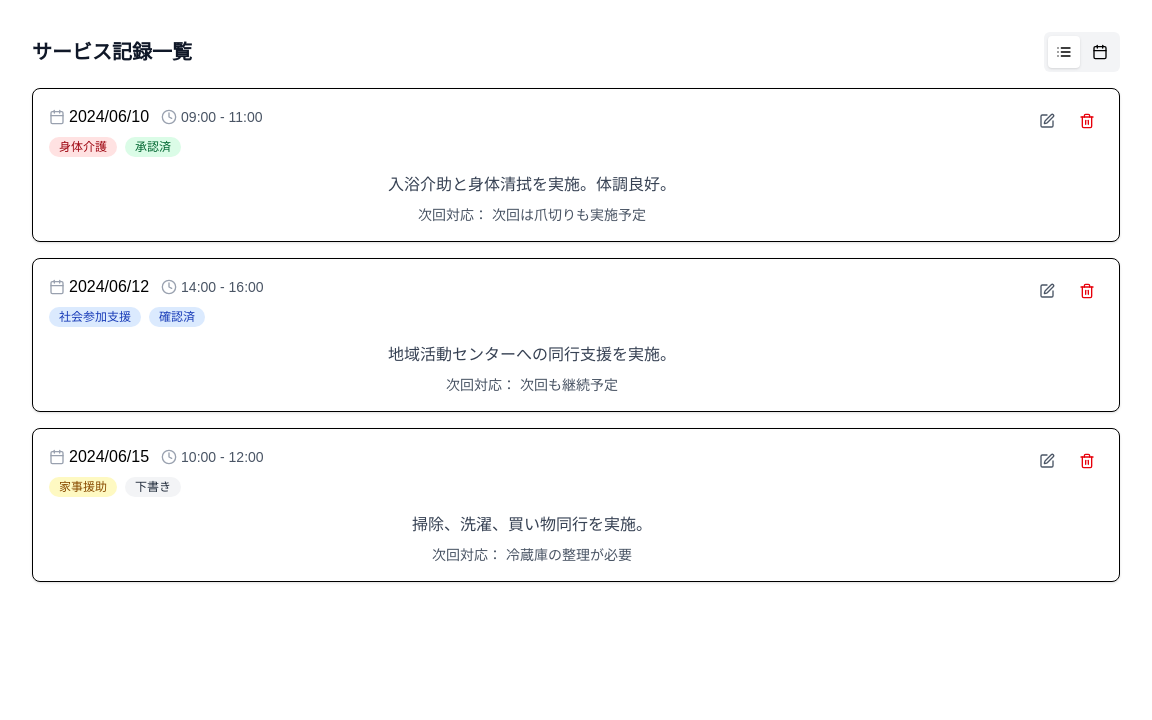
Scenario: ServiceLogList › カレンダービュー › カレンダービューに切り替えられる
This screenshot has width=1152, height=720.
Step 1. Click the button named "カレンダー表示" → x=1100, y=52, box left=1084, top=36, right=1116, bottom=68
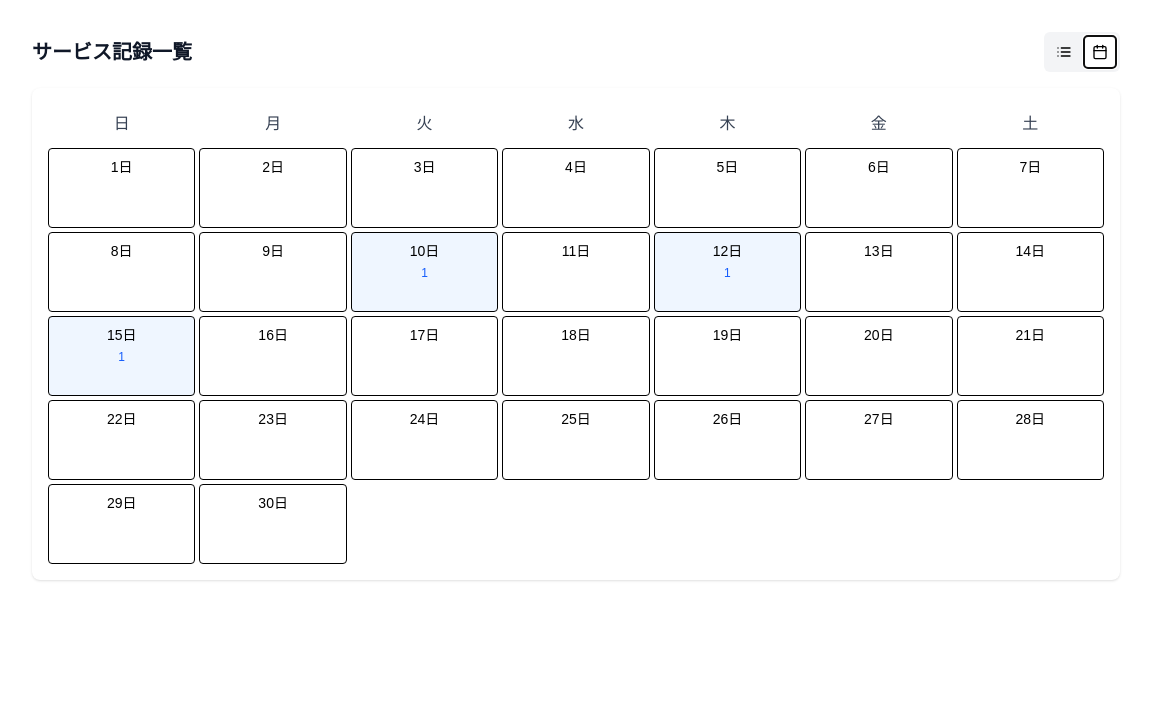
Now the element with test id "calendar-view" is shown
Now the list is gone
